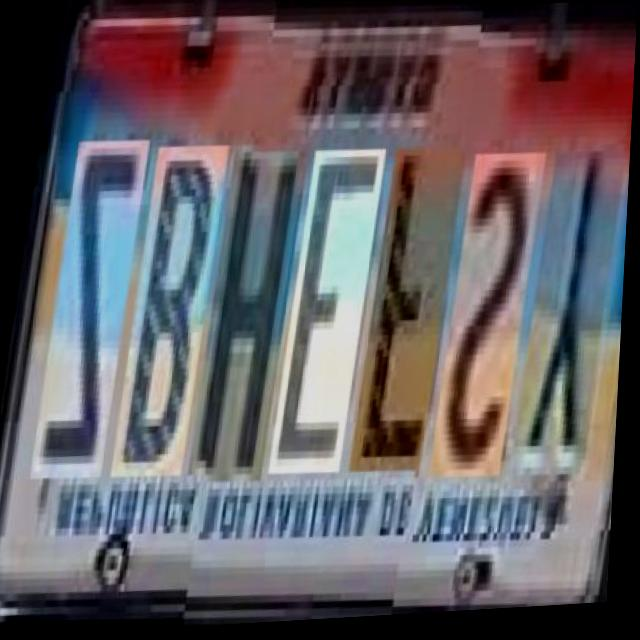b: (111, 159, 219, 495)
e: (269, 156, 377, 485)
f: (350, 155, 458, 484)
h: (188, 158, 301, 494)
s: (430, 153, 539, 482)
y: (511, 152, 619, 481)
z: (30, 153, 140, 496)
